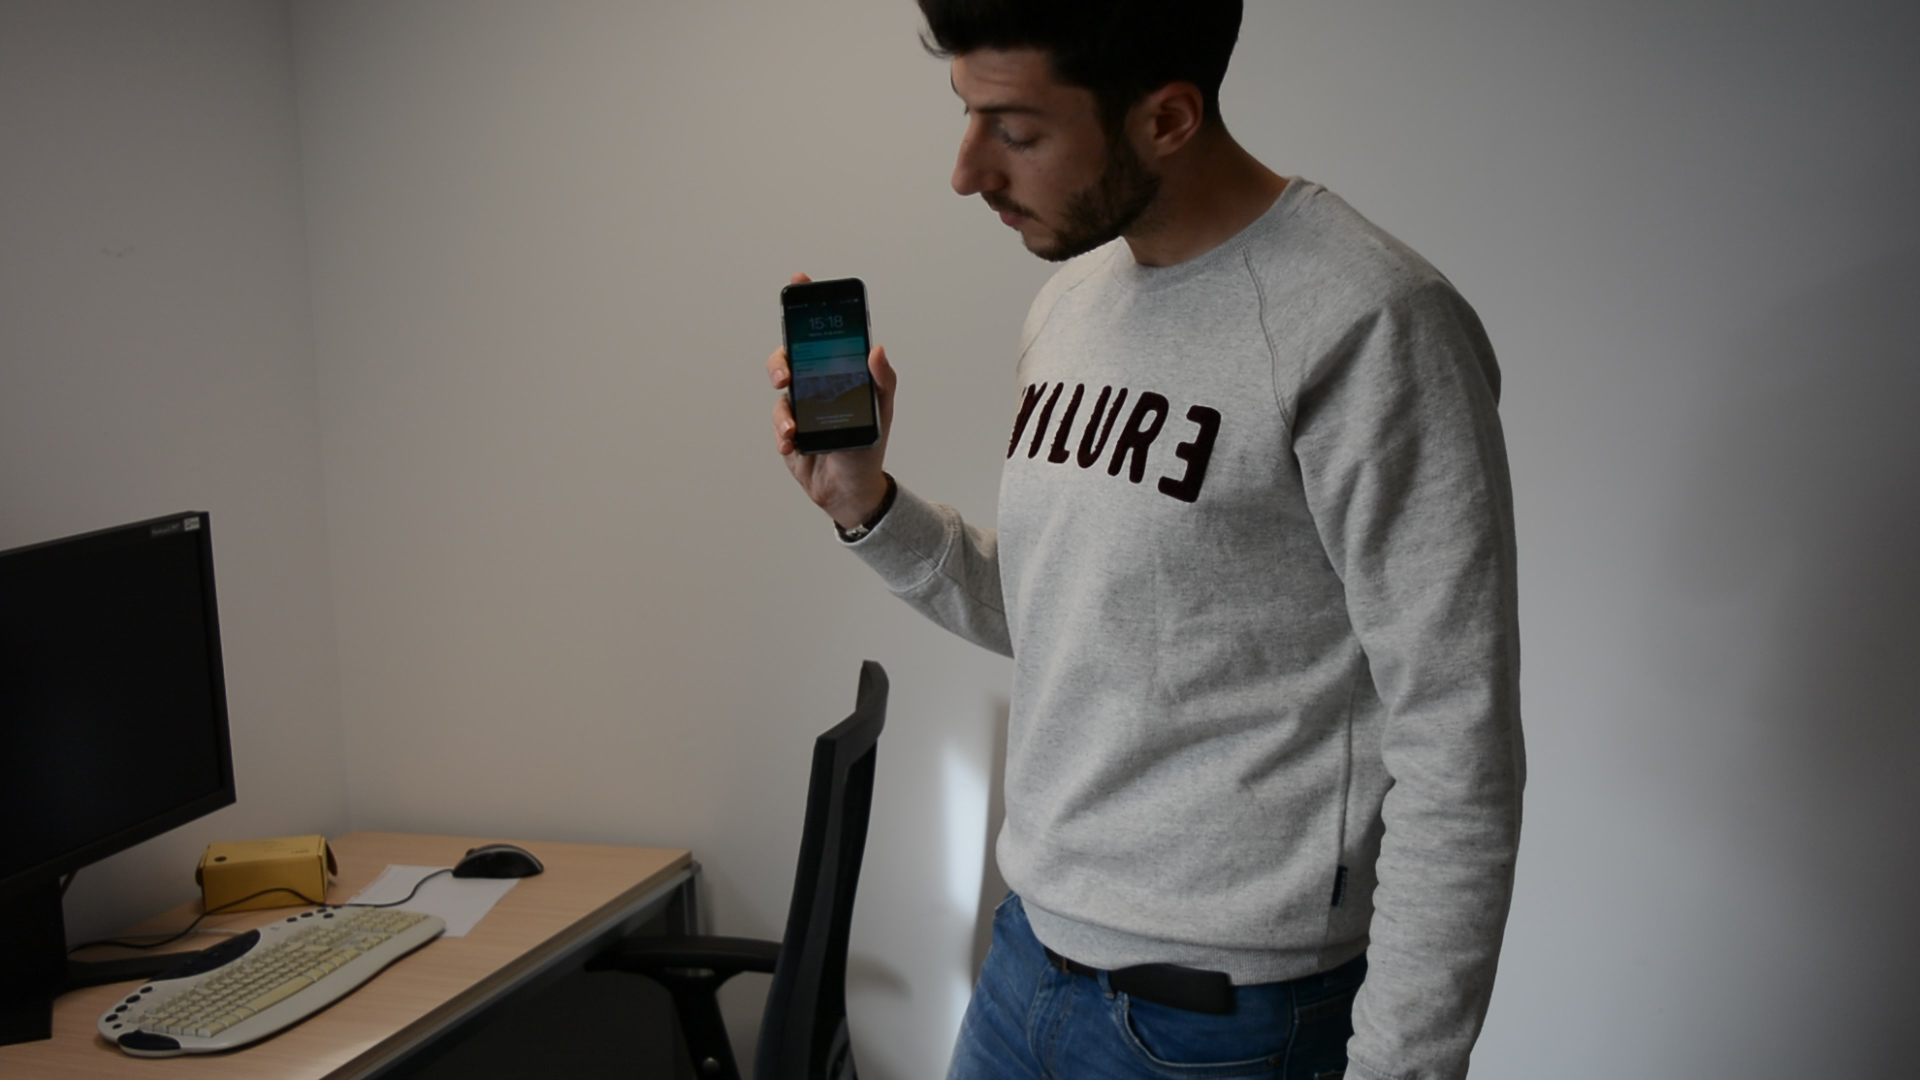smartphone: (781, 277, 882, 458)
